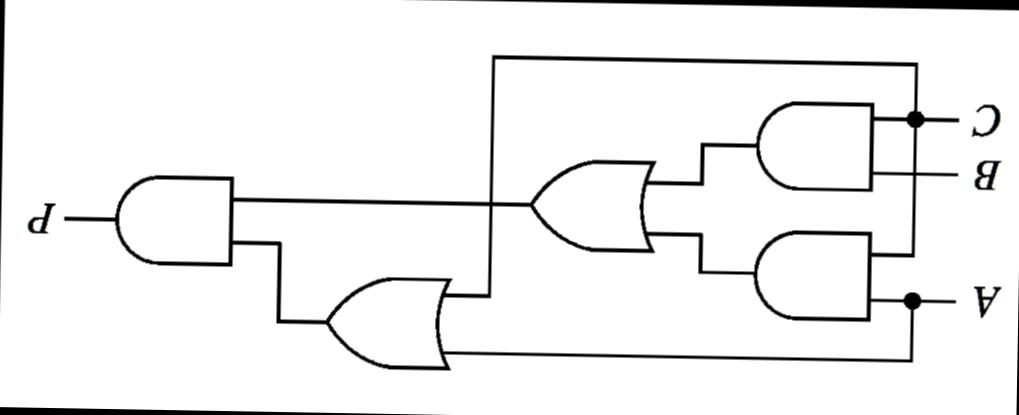and: (742, 220, 878, 328), (106, 168, 241, 271), (746, 94, 878, 198)
or: (523, 150, 662, 260), (318, 268, 458, 375)
